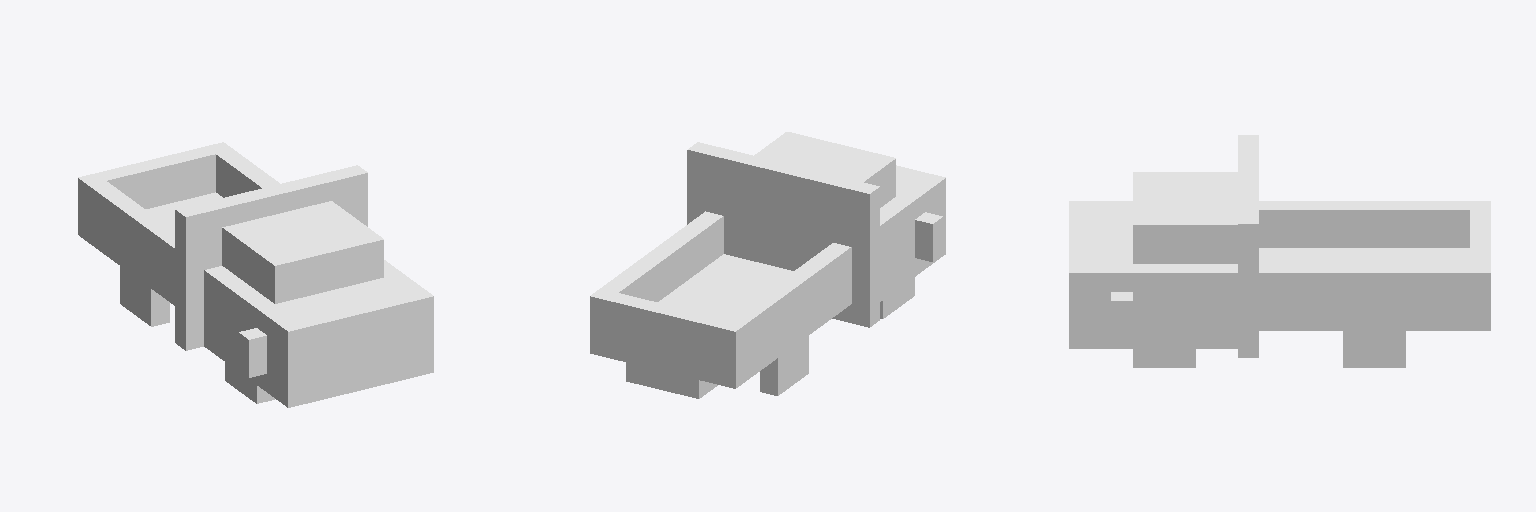
File: pickup_truck.obj
3 renders of one model, left to right at view 1: azimuth 30°, elevation 25°; view 2: azimuth 150°, elevation 25°; view 3: azimuth 270°, elevation 25°, orthographic.
Visible parts, largest first — view 1: object 1; view 2: object 1; view 3: object 1.
Boxes of the visible parts, <box> form: object 1: <box>78,142,433,407</box>; object 1: <box>590,132,945,398</box>; object 1: <box>1069,135,1490,367</box>.
Size of the model in its own units: 1 by 0.8 by 2.